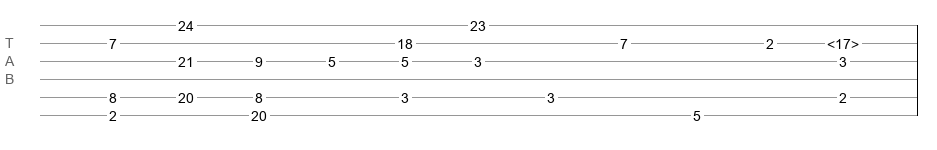18: (397, 36, 413, 46)
2: (109, 108, 117, 118), (766, 36, 774, 46), (839, 90, 847, 100)
20: (178, 90, 194, 100), (251, 108, 267, 118)
21: (178, 54, 194, 64)
23: (470, 18, 486, 28)
24: (178, 18, 194, 28)
3: (401, 90, 409, 100), (474, 54, 482, 64), (547, 90, 555, 100), (839, 54, 847, 64)
5: (328, 54, 336, 64), (401, 54, 409, 64), (693, 108, 701, 118)
7: (109, 36, 117, 46), (620, 36, 628, 46)
8: (109, 90, 117, 100), (255, 90, 263, 100)
9: (255, 54, 263, 64)
harmonic: (827, 36, 859, 46)
